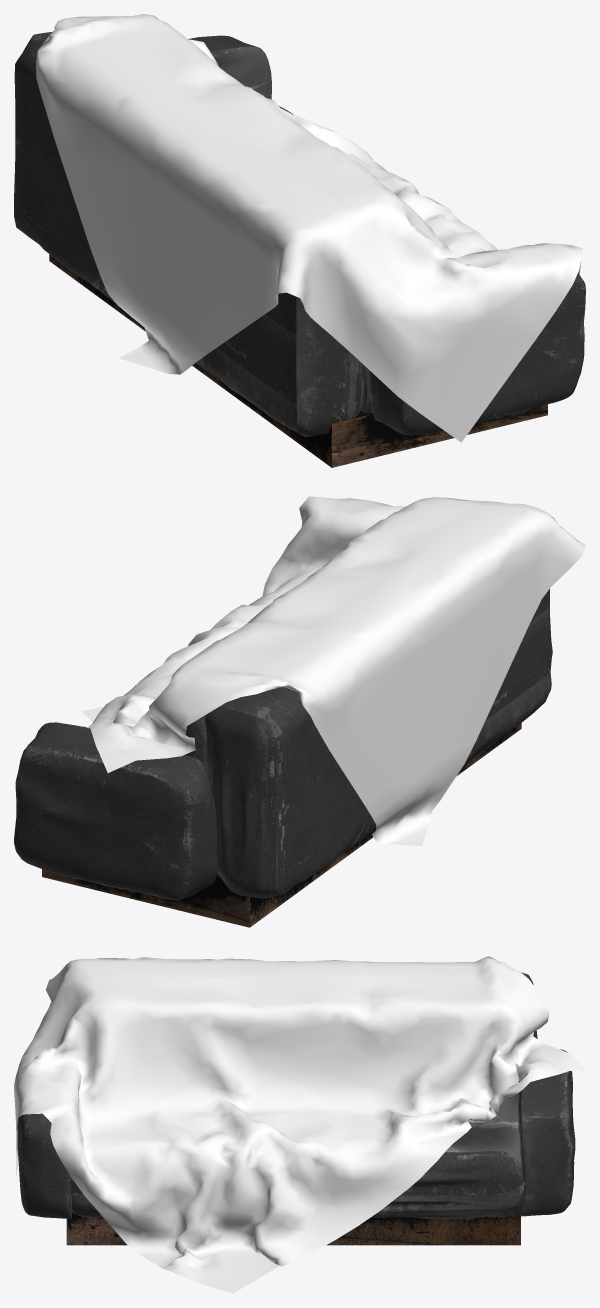
The model's file is Sofa.dae.
3 renders of one model, top to bottom at view 1: azimuth 30°, elevation 25°; view 2: azimuth 150°, elevation 25°; view 3: azimuth 270°, elevation 25°, orthographic. The views are drawn at different scales.
Parts seen in each view (by area): view 1: Cloth, Sofa_Part2, Sofa_Part6, pCube10, Sofa_Part5; view 2: Cloth, Sofa_Part2, Sofa_Part5, pCube10, Sofa_Part1; view 3: Cloth, Sofa_Part, Sofa_Part5, pCube10, Sofa_Part6.
Boxes of the visible parts, box(x1,y1,x2,y2) form: Cloth: box(36, 14, 582, 442); Sofa_Part2: box(14, 32, 366, 436); Sofa_Part6: box(369, 273, 585, 435); pCube10: box(49, 254, 547, 467); Sofa_Part5: box(188, 35, 271, 99); Cloth: box(81, 496, 585, 845); Sofa_Part2: box(205, 589, 552, 898); Sofa_Part5: box(14, 722, 217, 900); pCube10: box(42, 723, 521, 927); Sofa_Part1: box(184, 715, 208, 776); Cloth: box(14, 956, 585, 1293); Sofa_Part: box(70, 1093, 524, 1218); Sofa_Part5: box(518, 1049, 575, 1216); pCube10: box(66, 1212, 520, 1245); Sofa_Part6: box(17, 1113, 72, 1218).
Size of the model in its own units: 1204 by 686 by 1794.
